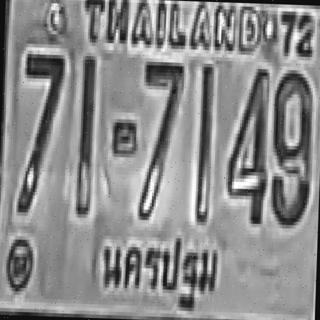N01: (192, 62, 213, 224), (74, 54, 95, 216)
N04: (224, 64, 269, 220)
N07: (16, 50, 64, 213), (137, 58, 182, 218), (21, 50, 62, 162)
N09: (268, 66, 313, 225)
P28: (97, 226, 222, 314)
